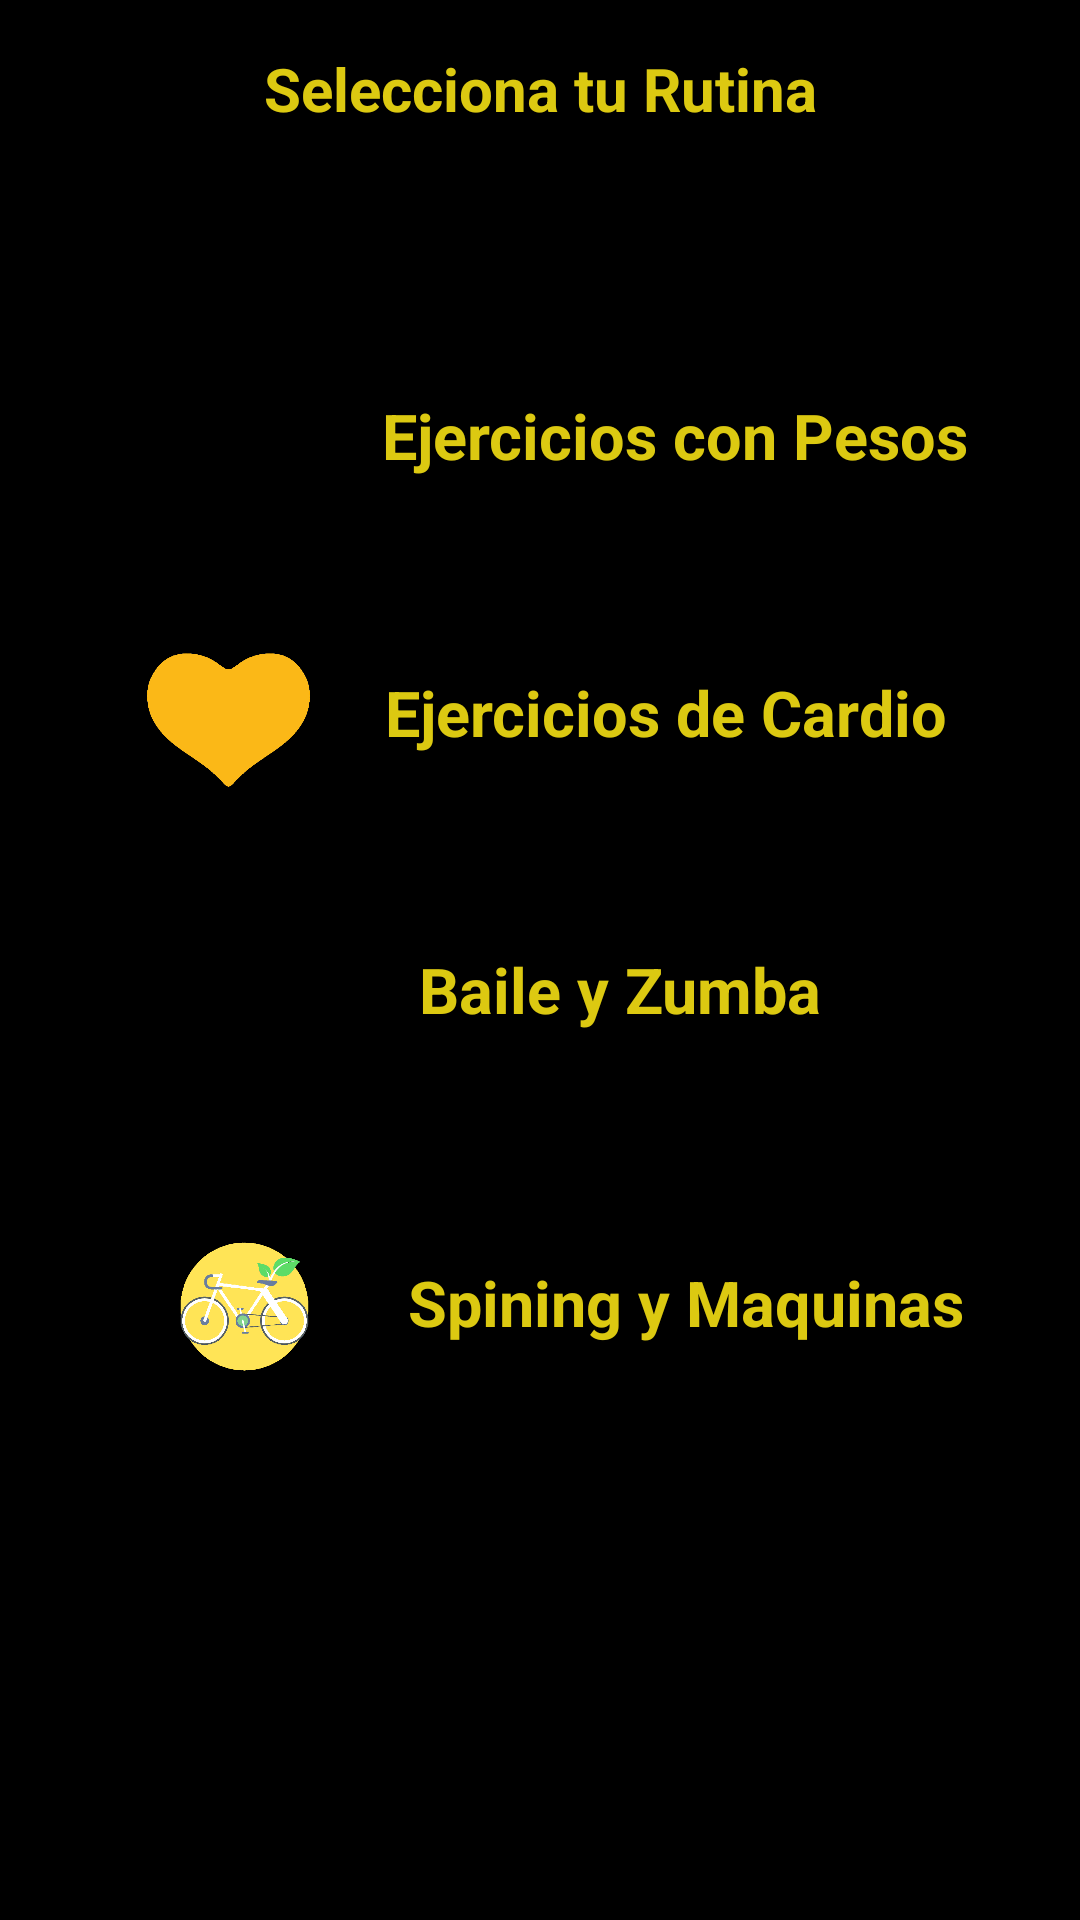

Icon click points for this 1080×1920 phone screenshot, format point (x, y):
bicicleta: point (244, 1306)
corazon: point (228, 720)
